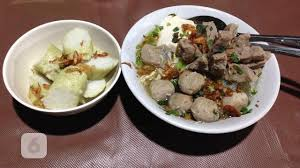bakso: (129, 16, 278, 123)
